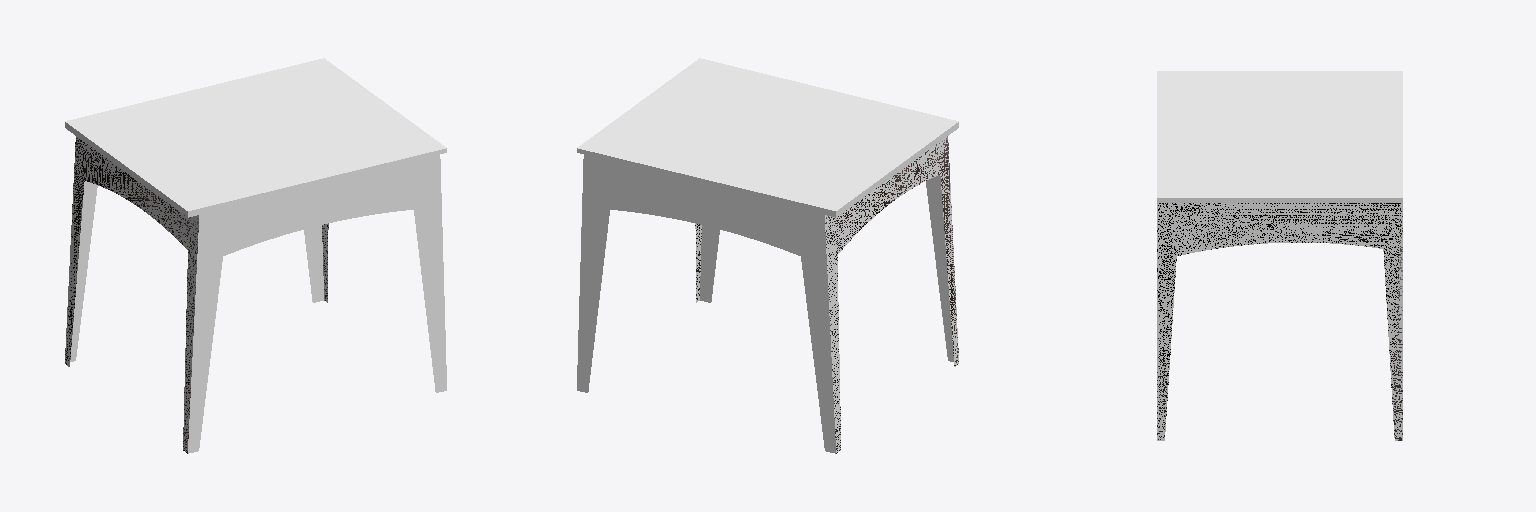
The picture shows the model from 3 angles: view 1: azimuth 30°, elevation 25°; view 2: azimuth 150°, elevation 25°; view 3: azimuth 270°, elevation 25°; orthographic projection.
Parts seen in each view (by area): view 1: mesh1_mesh1-geometry; view 2: mesh1_mesh1-geometry; view 3: mesh1_mesh1-geometry.
Part boxes in pixels (x1,y1,x2,y2): mesh1_mesh1-geometry: (65, 58, 446, 453); mesh1_mesh1-geometry: (577, 58, 958, 453); mesh1_mesh1-geometry: (1157, 71, 1402, 440).
Bounding box in the file's own units: 0.636 × 0.5679 × 0.5225.
Materials: 5 (2 with a texture image).